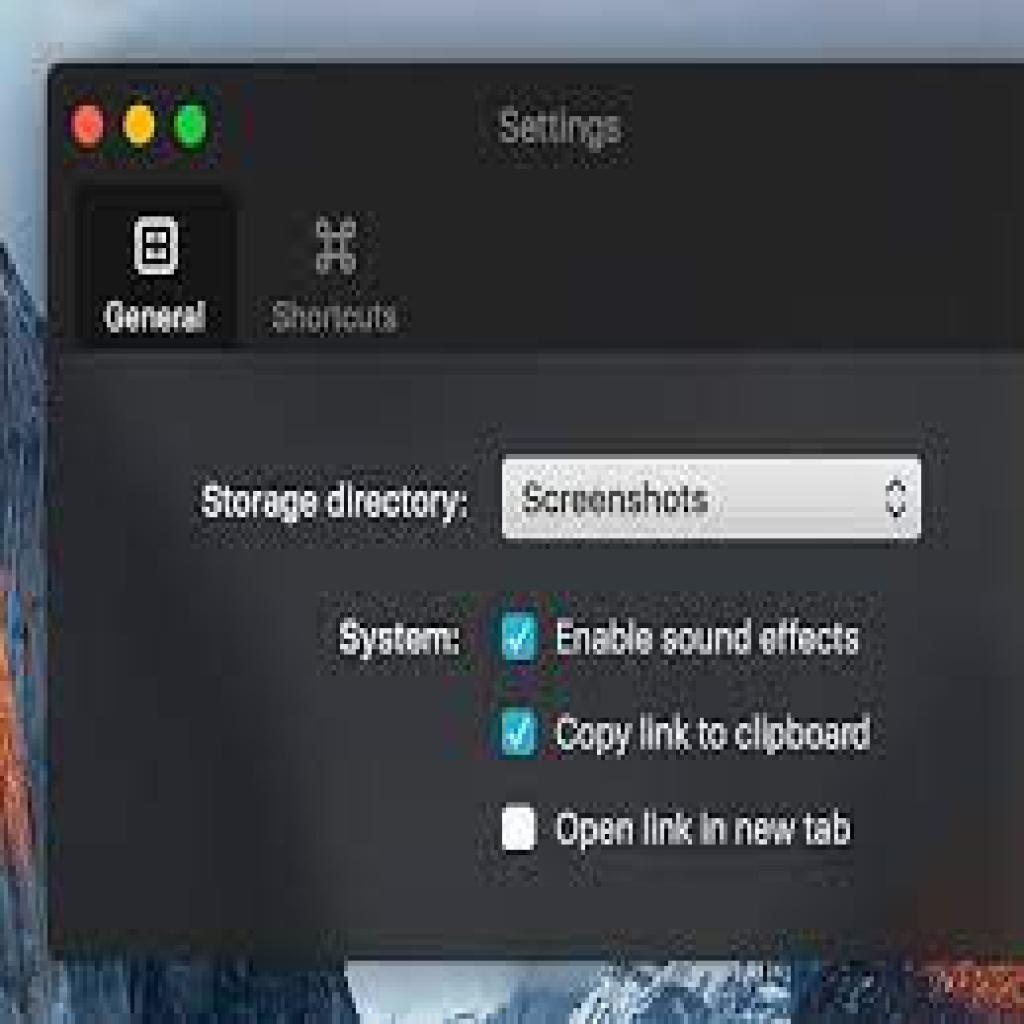checkbox: (499, 708, 540, 758), (499, 613, 539, 661), (502, 802, 539, 851)
dropdown: (502, 455, 921, 540)
